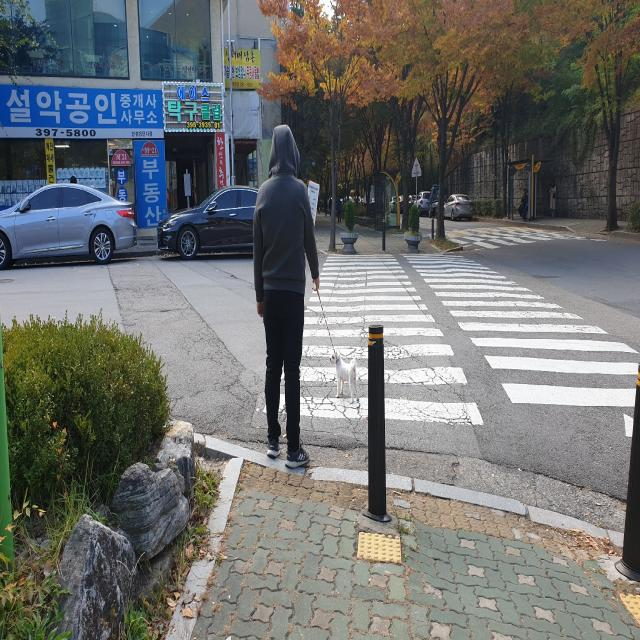횡단보도: (260, 246, 639, 442), (432, 224, 586, 250)
